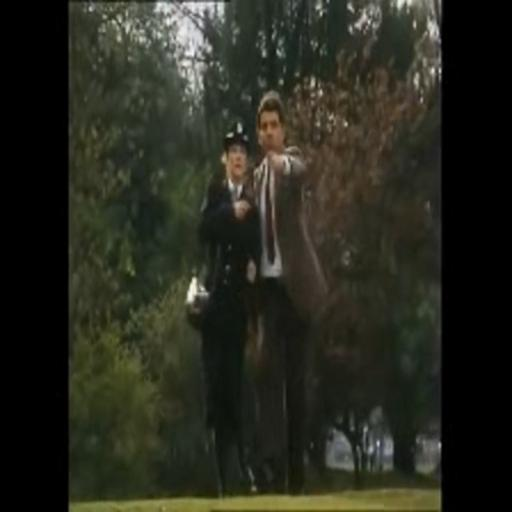nao-violencia: (179, 78, 336, 496)
